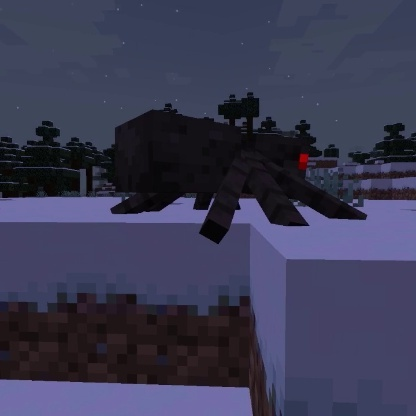spider: (106, 107, 370, 248)
